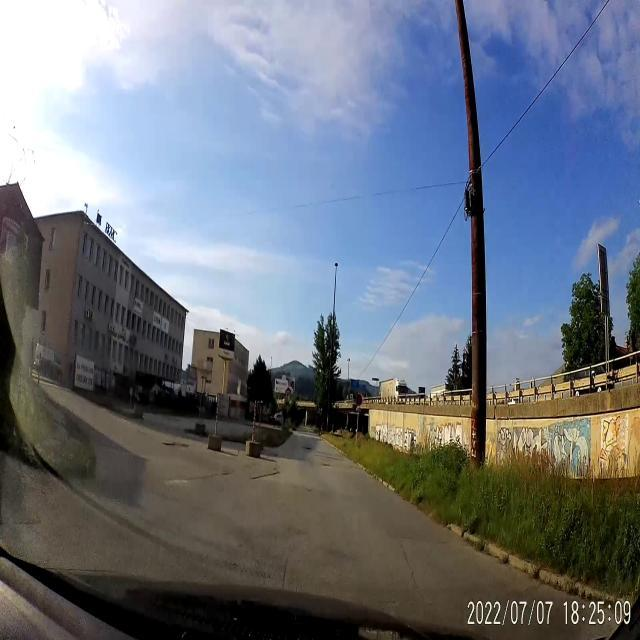Pothole: (162, 438, 192, 450), (302, 443, 315, 457), (321, 460, 338, 470)
